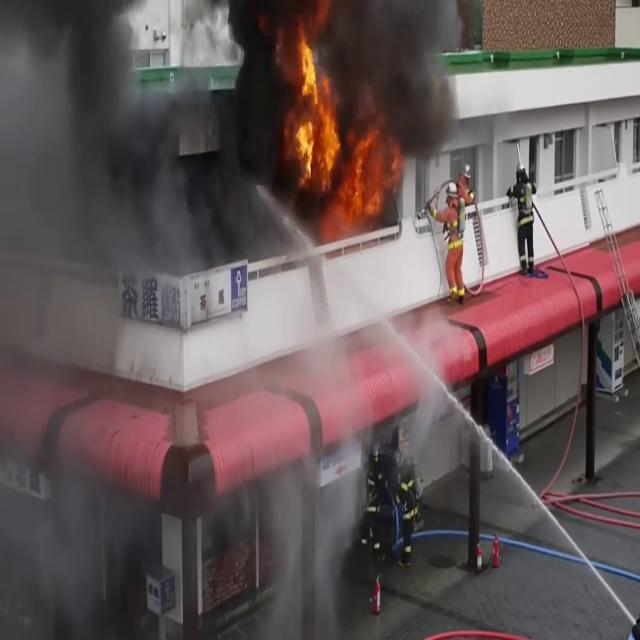Fire: (282, 13, 403, 248)
Smoke: (0, 0, 251, 333)
